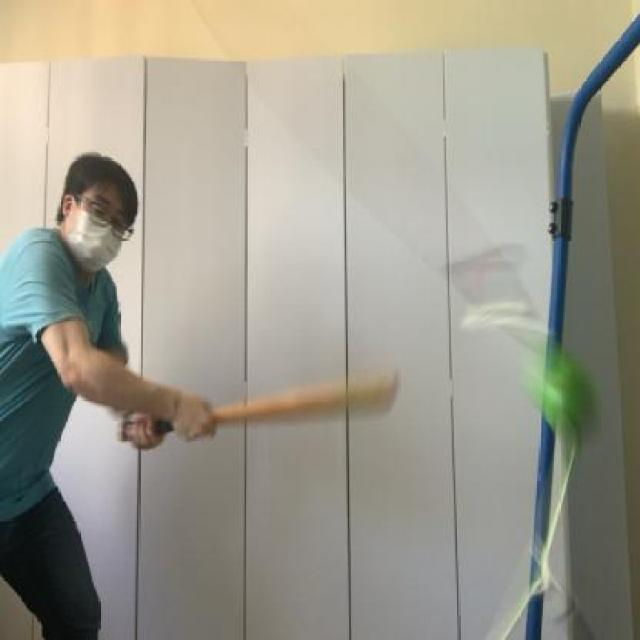baseball: (522, 352, 602, 439)
